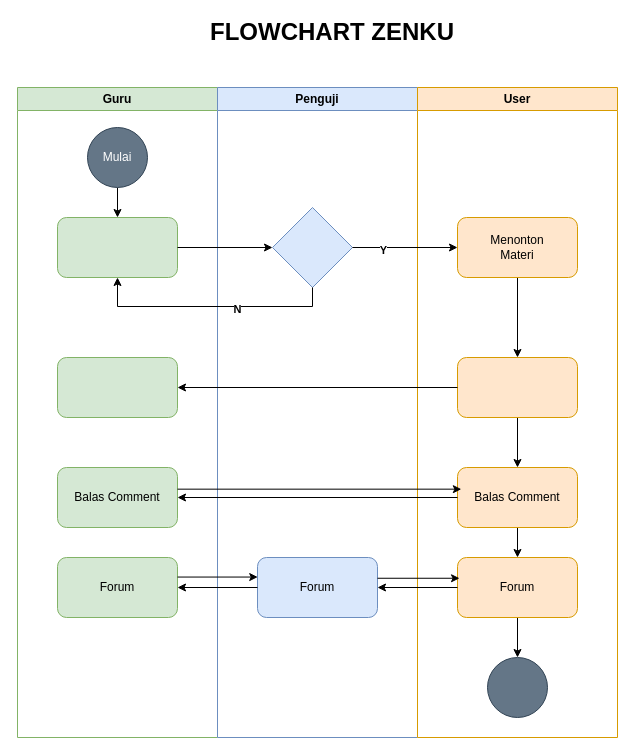
This 635x755 diagram has some shape labels left out. Each missing label, with the centre of its shape:
"Approve ?" belongs at [312,247].
"Buat Materi" belongs at [117,247].
"Lihat Data Like" belongs at [117,387].
"Like" belongs at [517,387].
"Selesai" belongs at [517,687].
